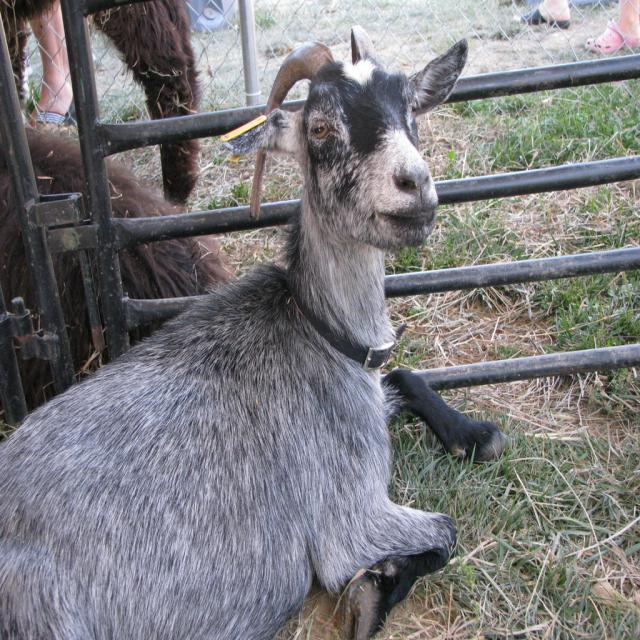Goat: (0, 25, 515, 640)
